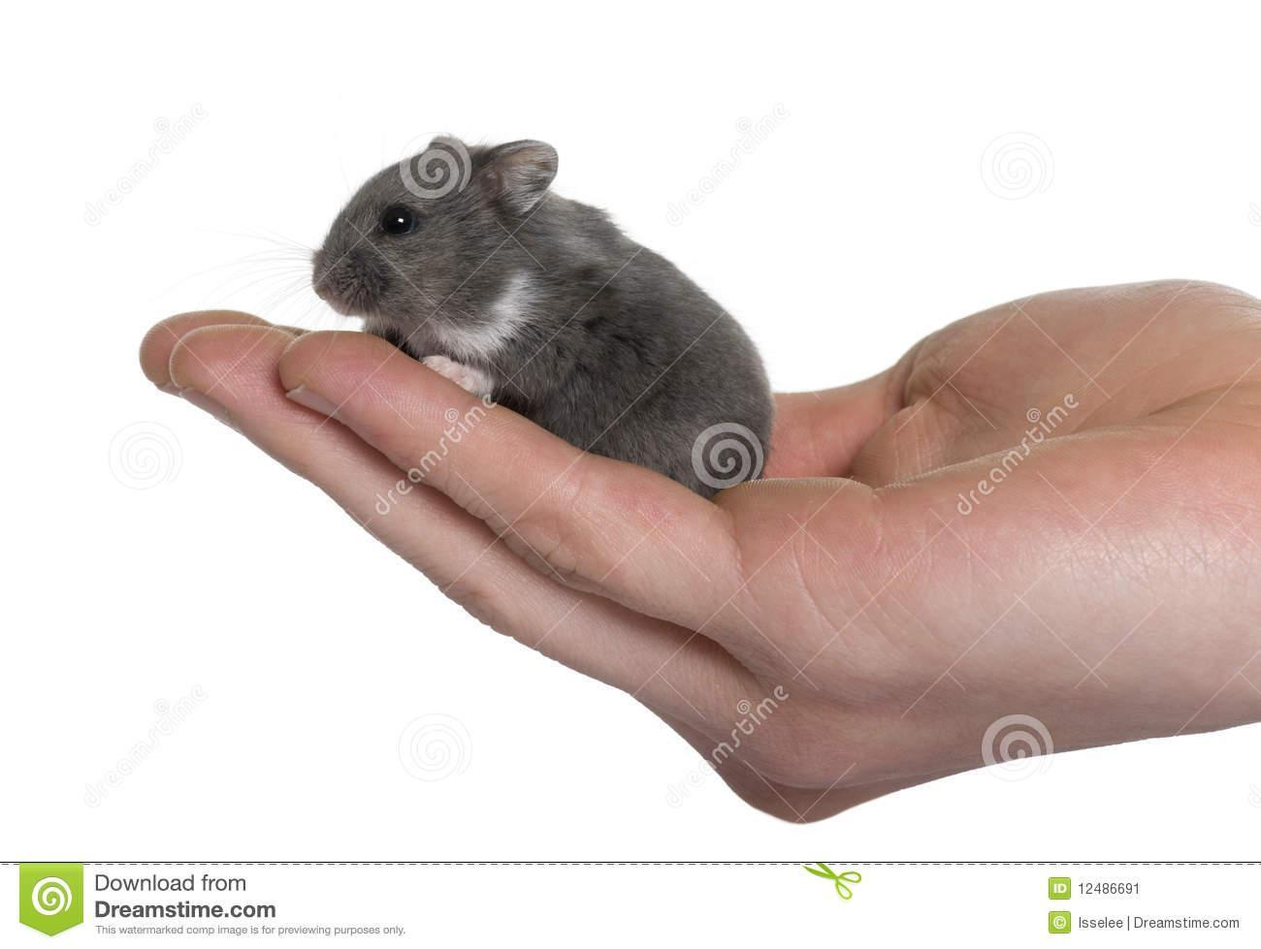rat: (311, 134, 779, 501)
